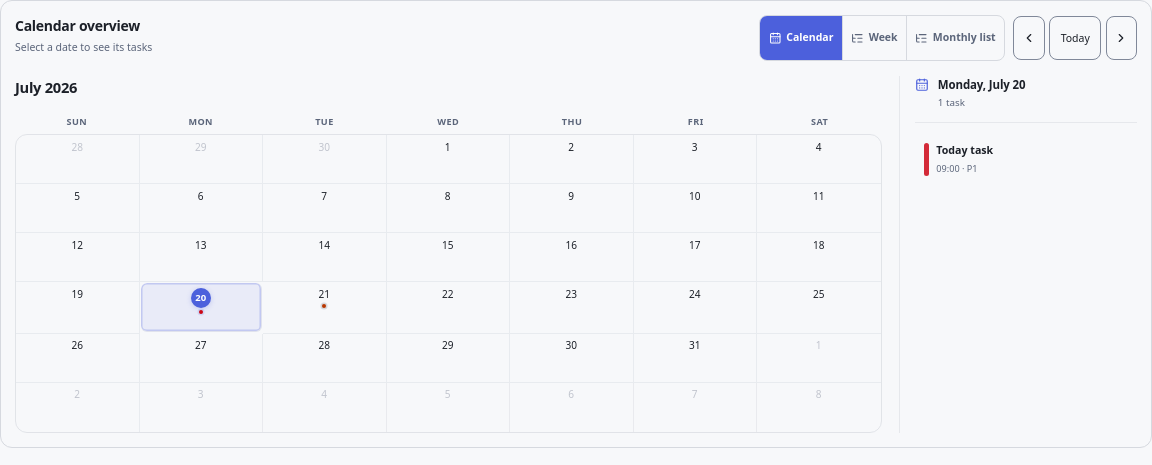
Test case: SummaryCalendar › shows tasks for today by default and changes the agenda when a date is selected
The image size is (1152, 465).
Expected: the list with test id "summary-day-tasks" shows "Today task", [915, 135, 1137, 184]
Expected: the list with test id "summary-day-tasks" does not show "Tomorrow task", [915, 135, 1137, 184]
Click the cell with test id "summary-calendar-day-2026-07-21": (325, 308) [263, 282, 386, 334]
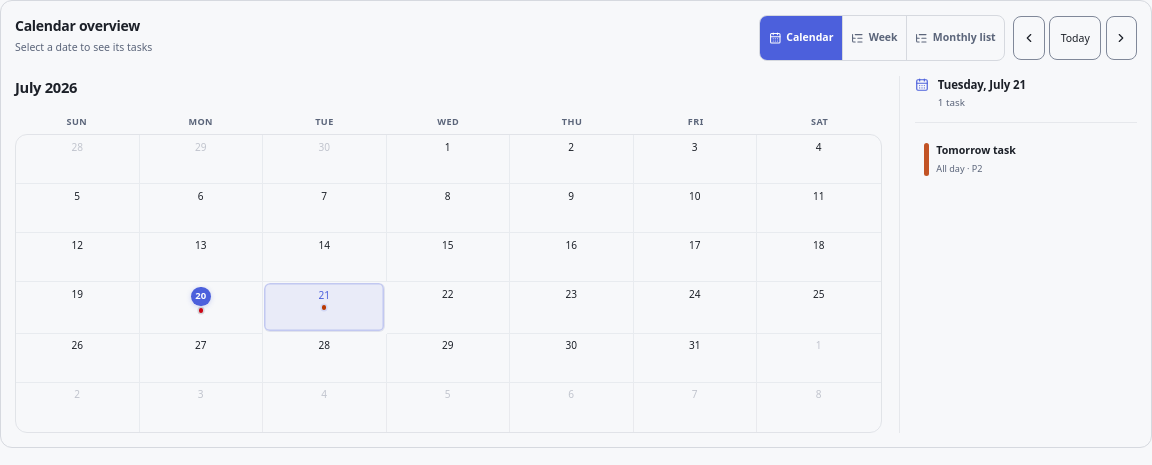
Now the list with test id "summary-day-tasks" shows "Tomorrow task", box [915, 135, 1137, 184]
Now the list with test id "summary-day-tasks" no longer shows "Today task", box [915, 135, 1137, 184]
